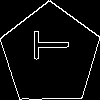T: (25, 29, 69, 61)
